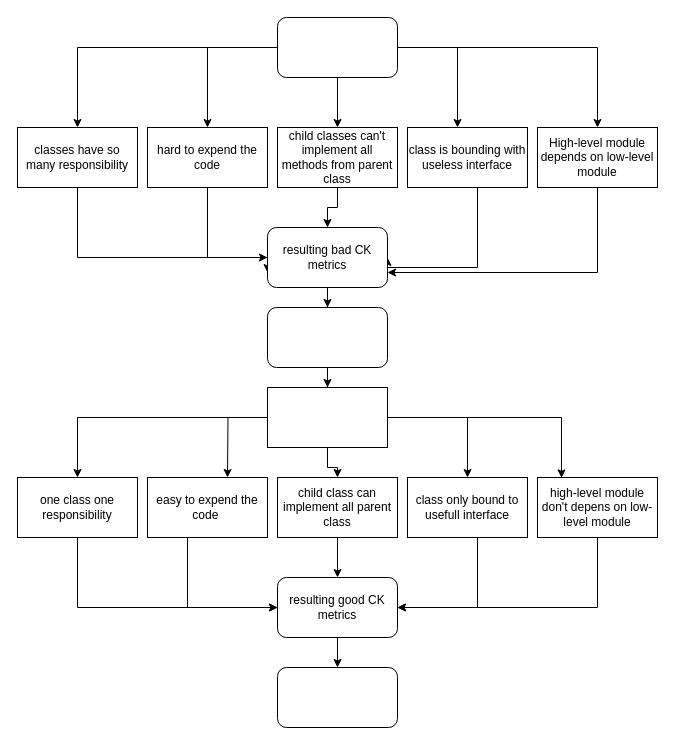
This 675x745 diagram has some shape labels left out. Here are the shapes that lost their labels. From the top down, the box of each, then its label:
(276, 16, 398, 78): software design without implementing SOLID
(266, 306, 388, 368): not maintainable software
(266, 386, 388, 448): implementing SOLID design principle
(276, 666, 398, 728): maintainabile software
